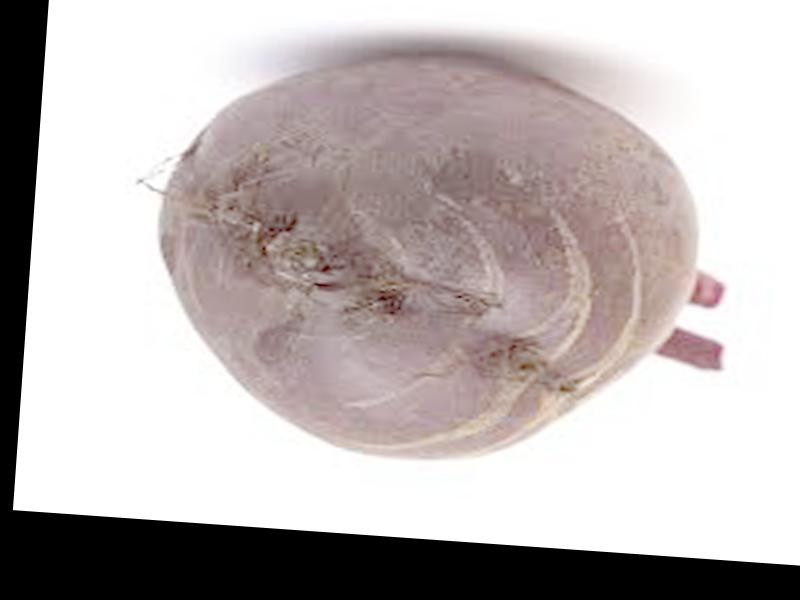Beet: (141, 28, 738, 483)
